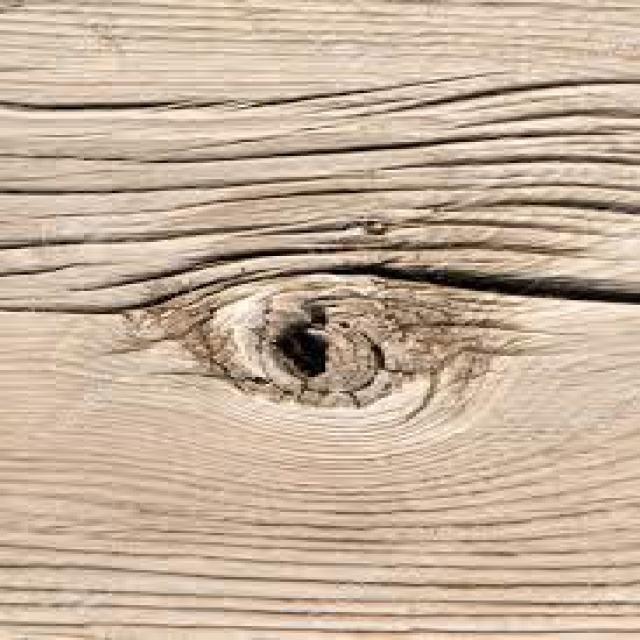have-wooden-eyes: (162, 275, 500, 407)
